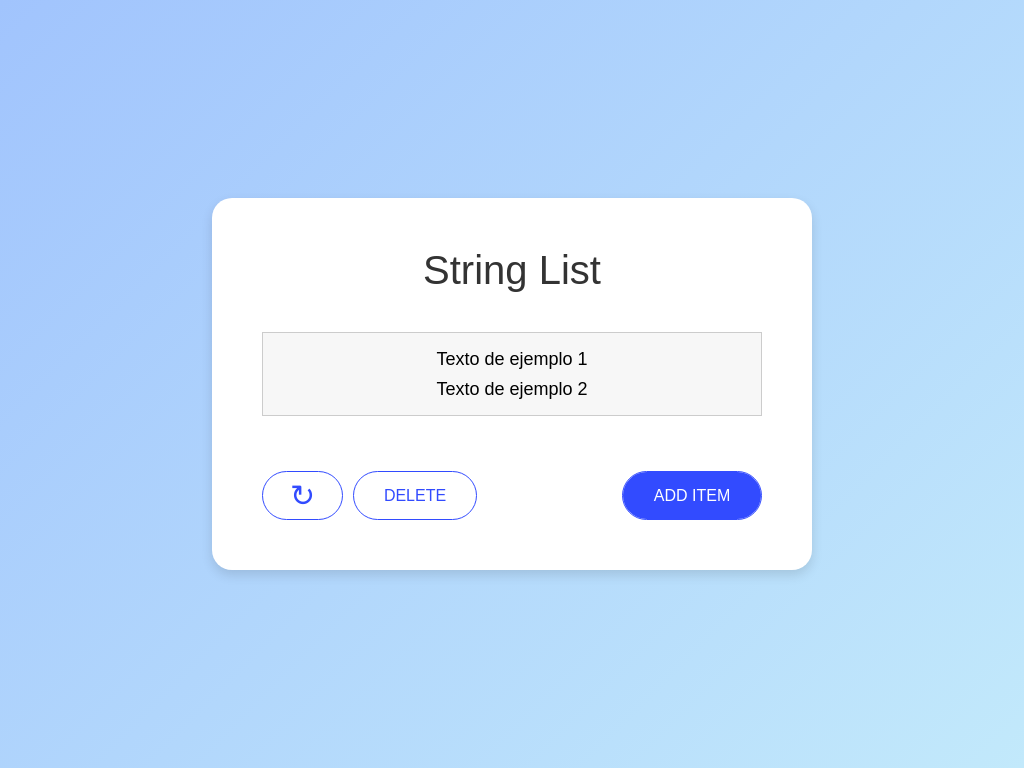
Test case: App › delet more than one item at the same time
Step 1. Click the list item "Texto de ejemplo 1" → point(512, 359), box [274,344,750,374]
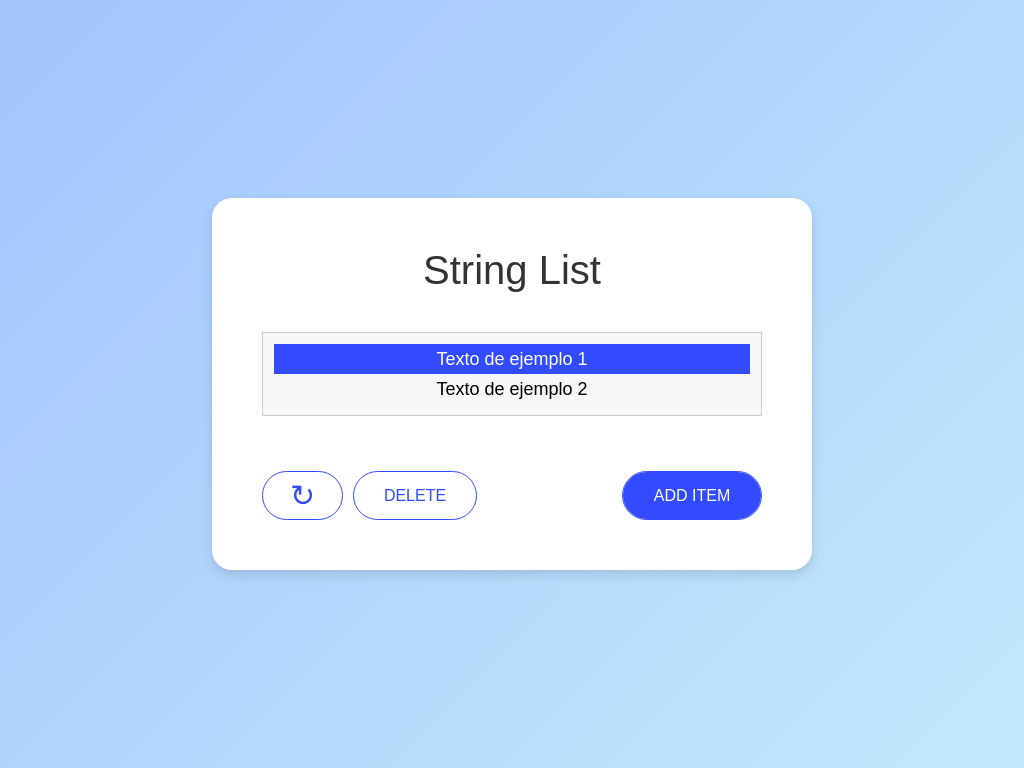
Step 2. Click the list item "Texto de ejemplo 2" → point(512, 389), box [274,374,750,404]
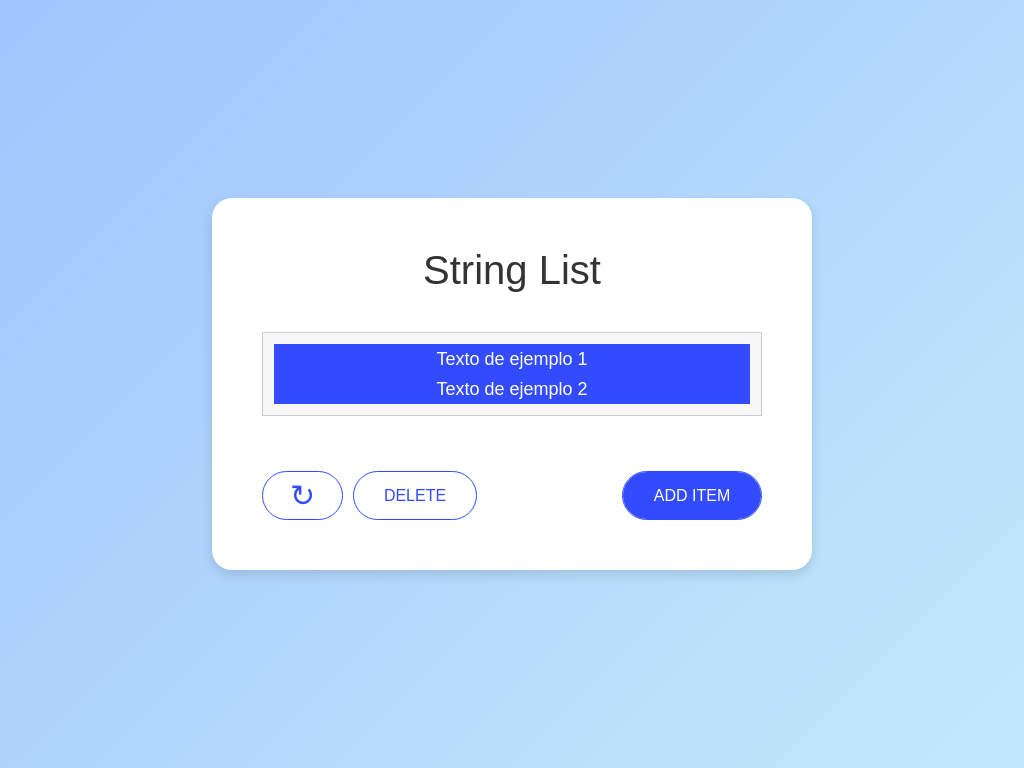
Step 3. Click the button "Delete" → point(415, 496), box [353,471,477,520]
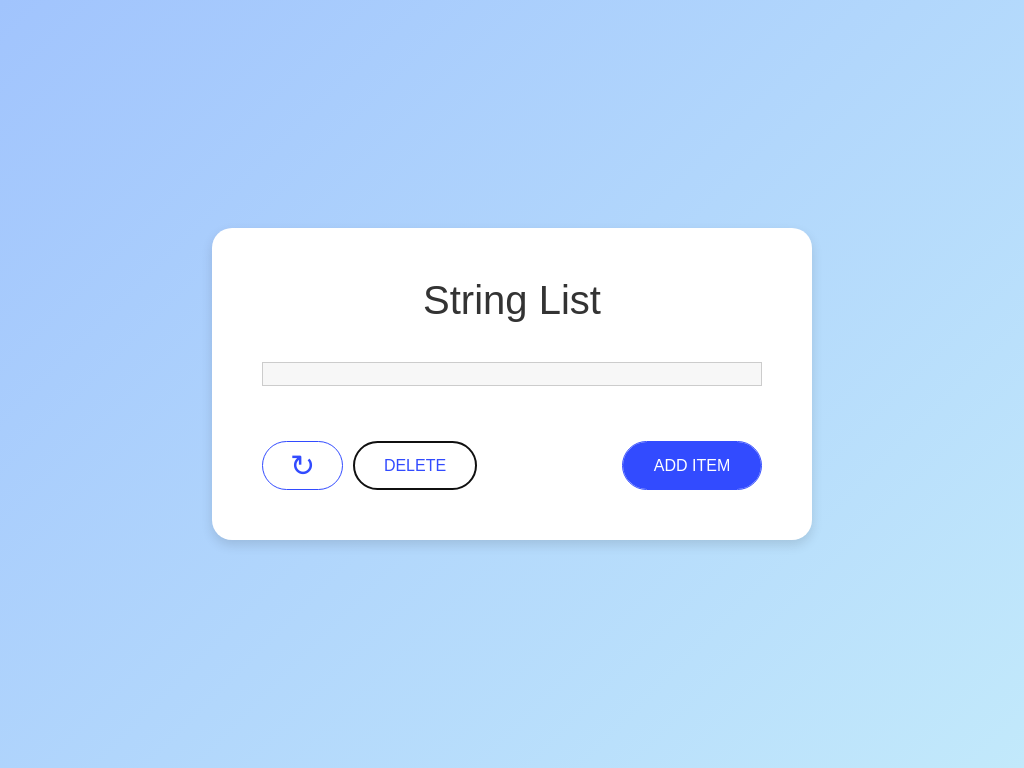
Result: the list item "Texto de ejemplo 1" is gone
Result: the list item "Texto de ejemplo 2" is gone
